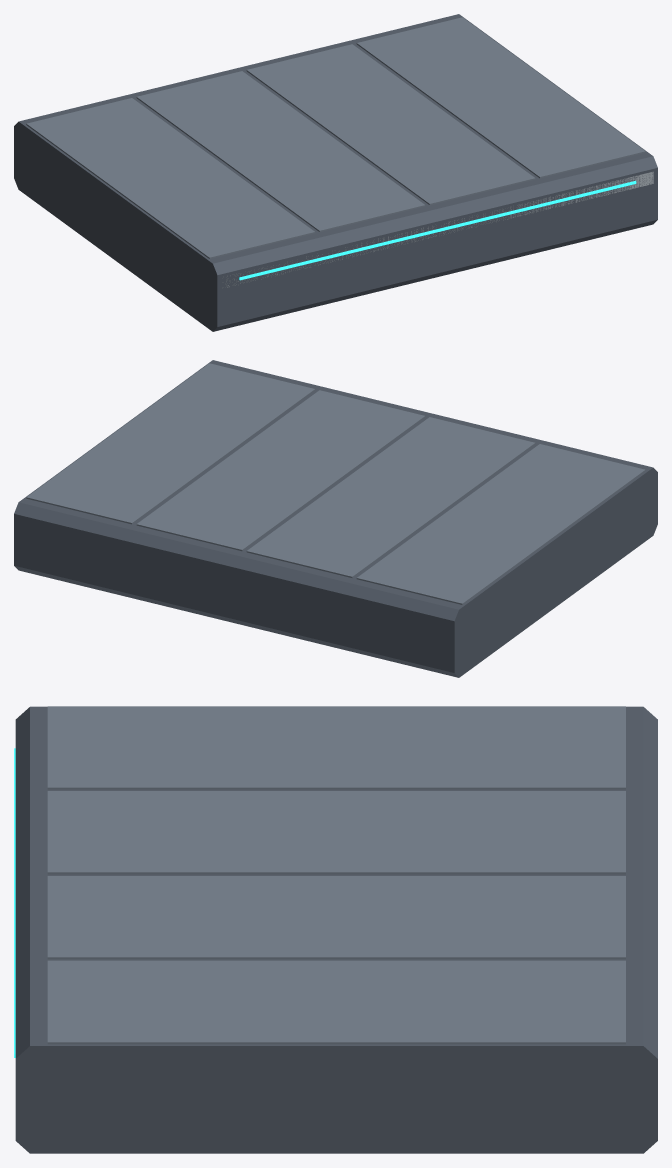
File: hlx_env_ledge_static_a.glb
The picture shows the model from 3 angles, top to bottom: view 1: azimuth 30°, elevation 25°; view 2: azimuth 150°, elevation 25°; view 3: azimuth 270°, elevation 25°; orthographic projection. The views are drawn at different scales.
Parts seen in each view (by area): view 1: mesh_intact; view 2: mesh_intact; view 3: mesh_intact.
Part boxes in pixels (bbox=[...]): mesh_intact: bbox=[14, 14, 657, 331]; mesh_intact: bbox=[14, 360, 657, 677]; mesh_intact: bbox=[14, 706, 657, 1153].
Bounding box in the file's own units: 2 × 0.3021 × 1.6.
